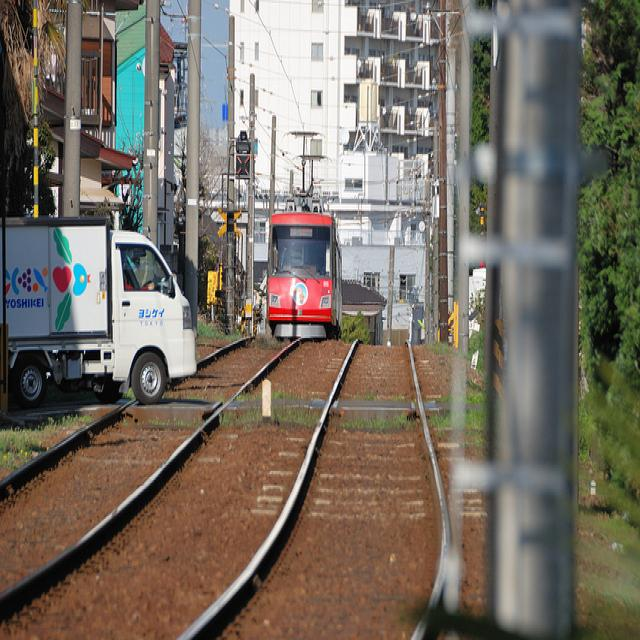Vehicle: (3, 217, 197, 415)
